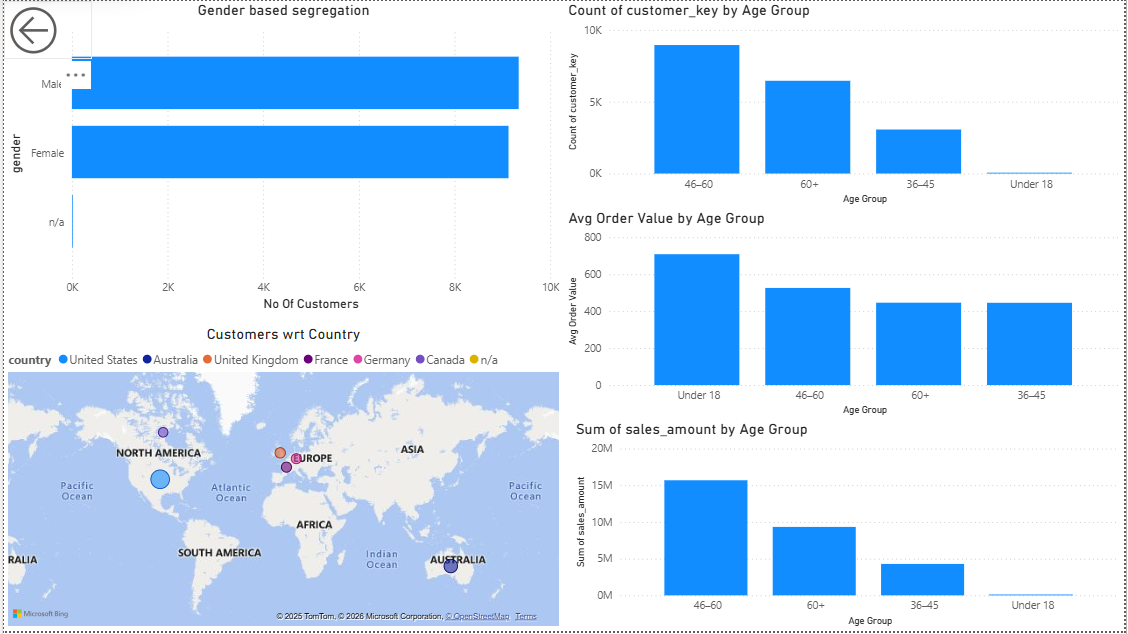

This screenshot's page, from the dashboard's own definition file:
{"tool":"powerbi","page":{"name":"Customer Insight Dashboard","canvas":[1280,720],"ordinal":2},"visuals":[{"type":"barChart","title":"Gender based segregation","fields":{"Category":["gold dim_customers.gender"],"Y":["Count(gold fact_sales.customer_key)"]},"box":[0,0,639.5,359.5],"z":0},{"type":"map","title":"Customers wrt Country","fields":{"Category":["gold dim_customers.country"],"Size":["Count(gold fact_sales.customer_key)"],"Series":["gold dim_customers.country"]},"box":[0,370,639,350],"z":1000},{"type":"columnChart","fields":{"Category":["gold dim_customers.Age Group"],"Y":["Count(gold dim_customers.customer_key)"]},"box":[639.5,0,640.7,237.2],"z":2000},{"type":"columnChart","fields":{"Category":["gold dim_customers.Age Group"],"Y":["Sum(gold fact_sales.sales_amount)"]},"box":[648.8,479.1,631.4,240.7],"z":3000},{"type":"columnChart","fields":{"Category":["gold dim_customers.Age Group"],"Y":["gold fact_sales.Avg Order Value"]},"box":[639.5,237.2,640.7,241.9],"z":4000},{"type":"actionButton","box":[0,0,100,67.1],"z":5000}]}

Visuals, with their boxes in screenshot pixels (x1, y1, x2, y2), scaled from the page's 1280x720 canvas onto the 1128x634 screenshot:
"Gender based segregation" barChart: bbox=(0, 0, 564, 317)
"Customers wrt Country" map: bbox=(0, 326, 563, 633)
columnChart - gold dim_customers.Age Group x Count(gold dim_customers.customer_key): bbox=(564, 0, 1127, 209)
columnChart - gold dim_customers.Age Group x Sum(gold fact_sales.sales_amount): bbox=(572, 422, 1127, 633)
columnChart - gold dim_customers.Age Group x gold fact_sales.Avg Order Value: bbox=(564, 209, 1127, 422)
actionButton: bbox=(0, 0, 88, 59)
